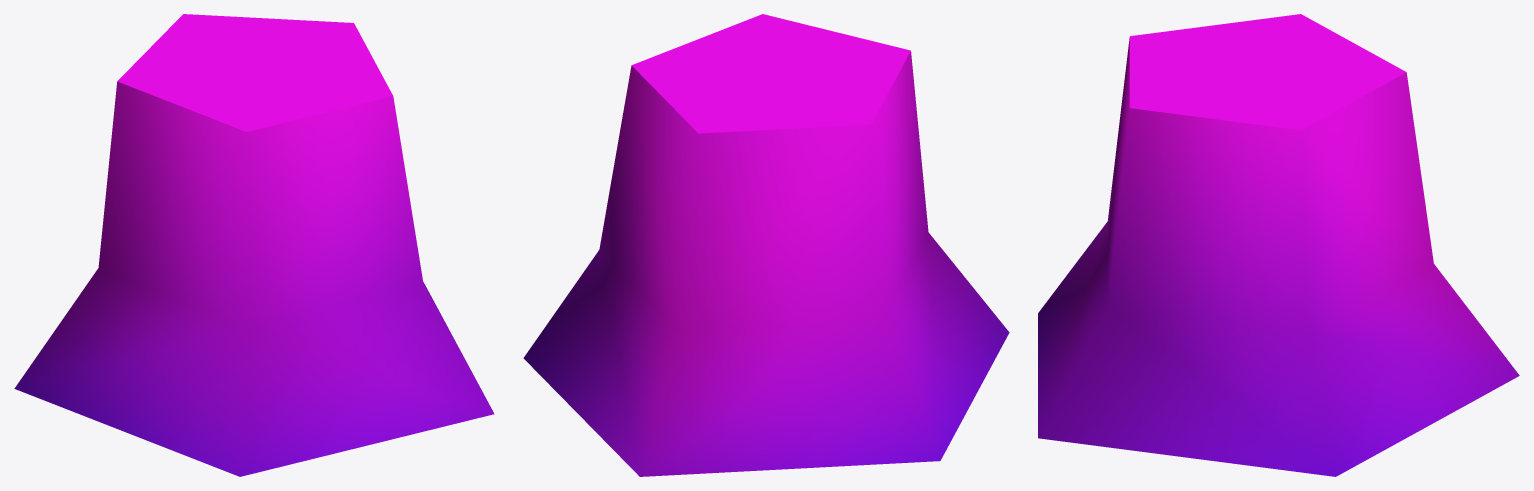
The model's file is SM_Stump_01.FBX.
3 views of the same model, side by side, from view 1: azimuth 30°, elevation 25°; view 2: azimuth 150°, elevation 25°; view 3: azimuth 270°, elevation 25° (orthographic).
Parts seen in each view (by area): view 1: SM_Stump_01; view 2: SM_Stump_01; view 3: SM_Stump_01.
Part boxes in pixels (x1=…): SM_Stump_01: x1=14, y1=14, x2=494, y2=476; SM_Stump_01: x1=523, y1=14, x2=1009, y2=476; SM_Stump_01: x1=1038, y1=14, x2=1519, y2=476.
Size of the model in its own units: 81.79 by 81.79 by 56.86.
